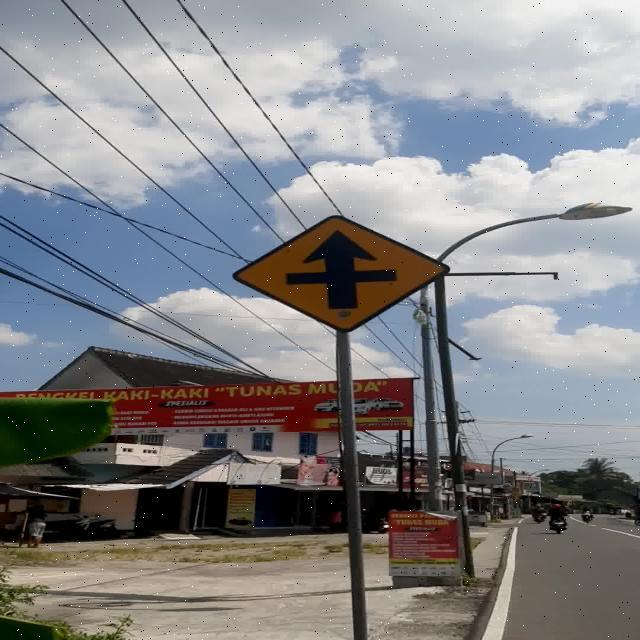Persimpangan 3 Prioritas: (232, 215, 452, 334)
